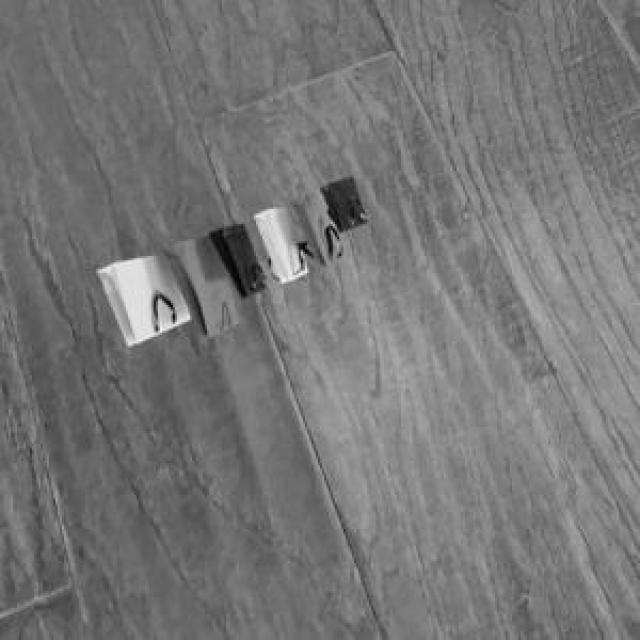paper: (94, 173, 363, 341)
